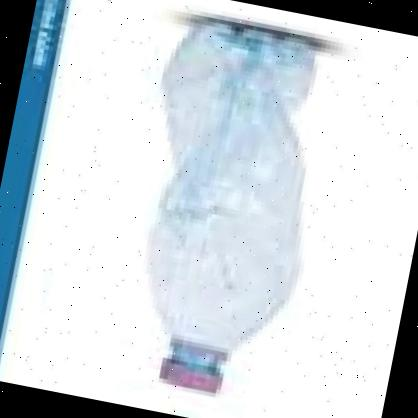bottle: (96, 8, 352, 418)
cap: (149, 345, 230, 402)
